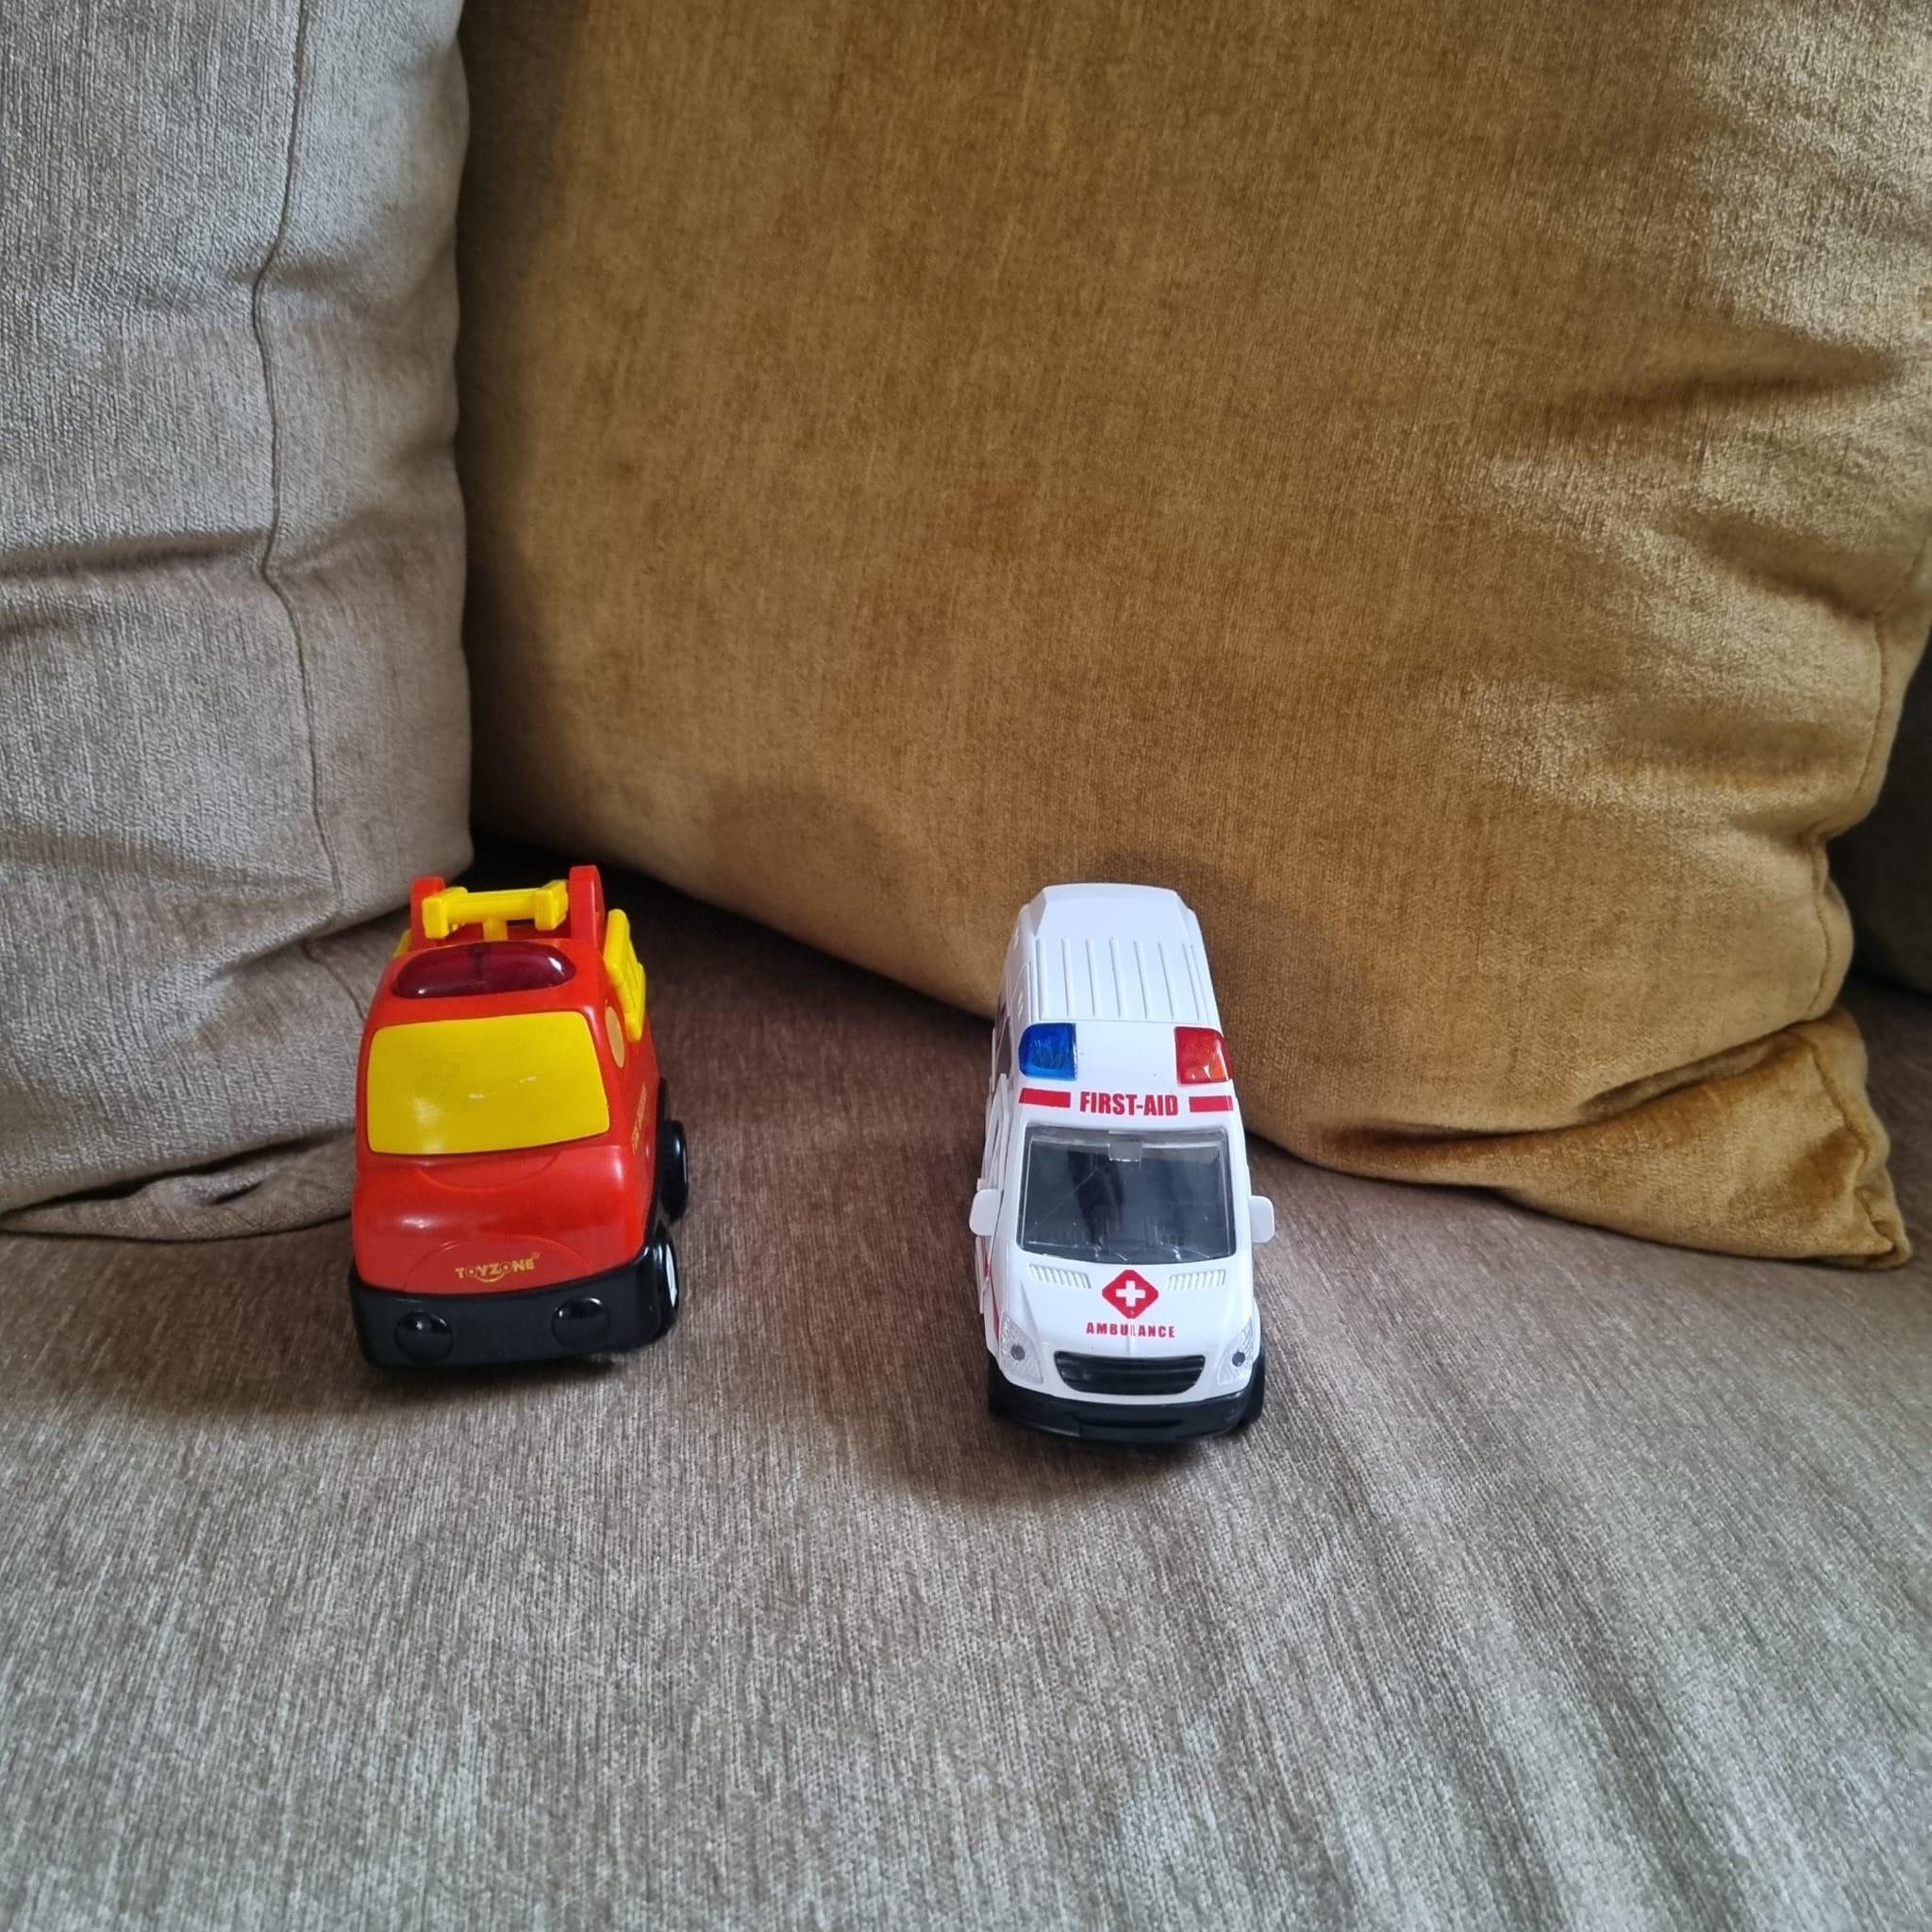ambulance_off: (959, 860, 1283, 1465)
firetruck_off: (336, 860, 686, 1387)
